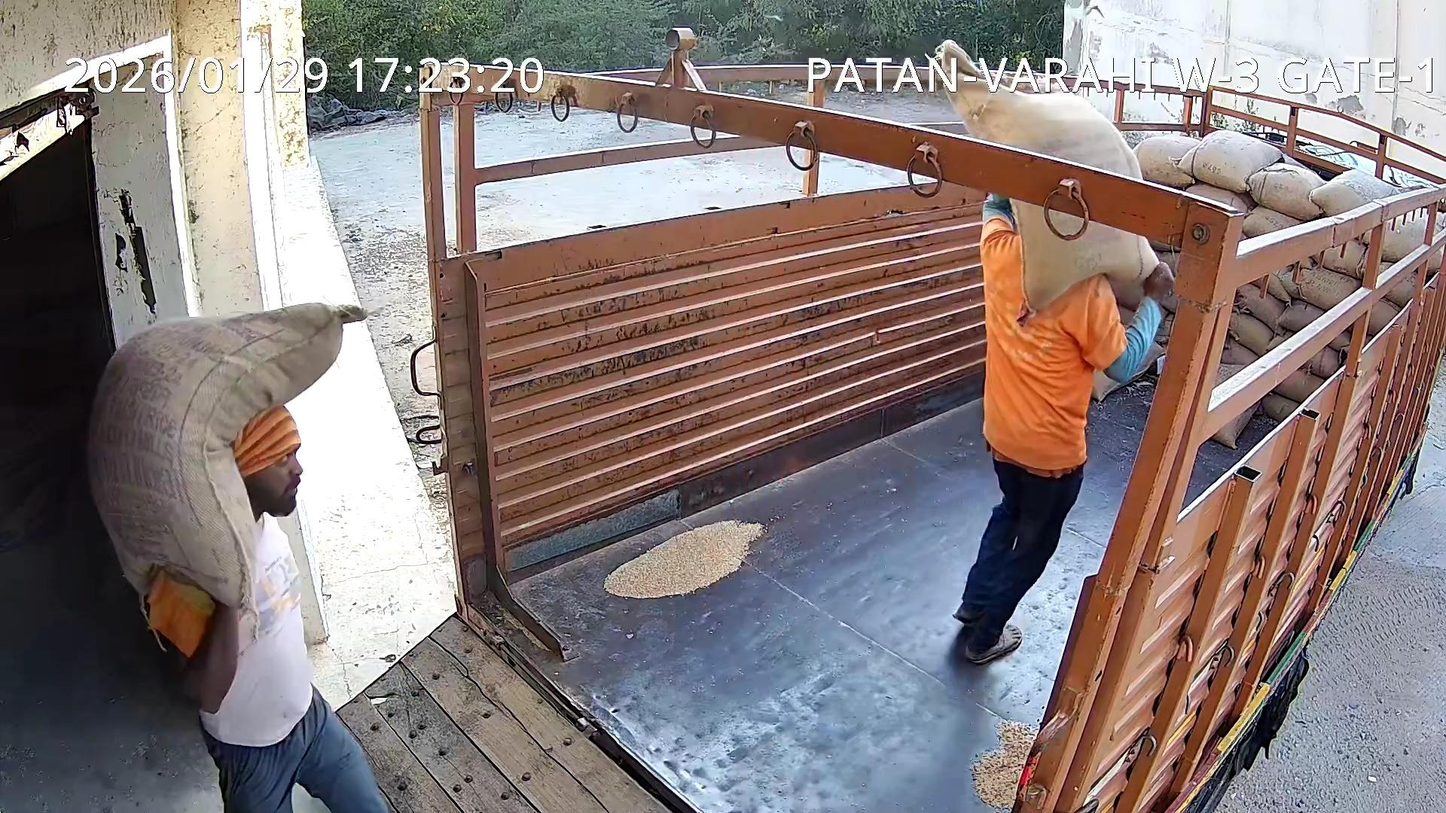Sack: (88, 303, 365, 633), (951, 84, 1142, 180), (1015, 187, 1158, 309), (941, 43, 982, 77)
